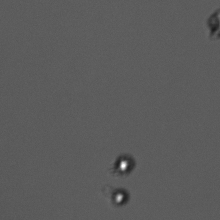Living Cell: (112, 154, 136, 176), (109, 189, 129, 206)
